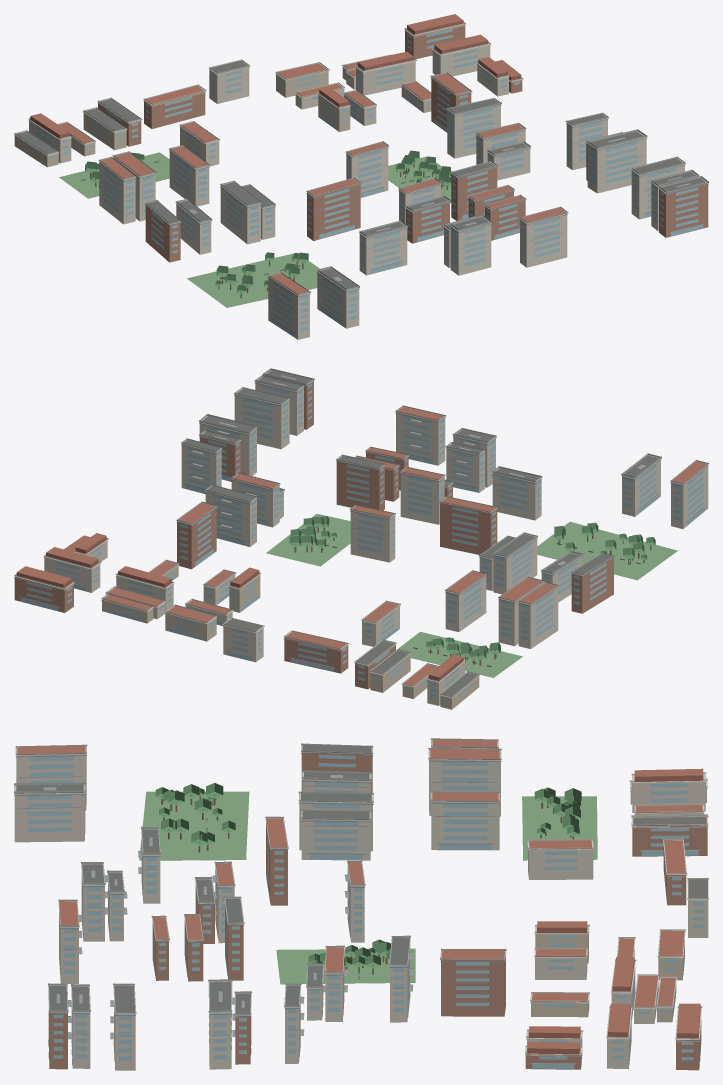
3 renders of one model, top to bottom at view 1: azimuth 30°, elevation 25°; view 2: azimuth 150°, elevation 25°; view 3: azimuth 270°, elevation 25°, orthographic. The views are drawn at different scales.
Parts seen in each view (by area): view 1: neighborhood-park-block-271-mesh-0, building-0677-mesh-94, building-0860-mesh-256, building-0856-mesh-231, building-0752-mesh-146, building-0706-mesh-109, building-0801-mesh-187, building-0623-mesh-15, building-0676-mesh-87, building-0679-mesh-104, building-0629-mesh-47, building-0627-mesh-37 (+44 smaller); view 2: neighborhood-park-block-271-mesh-0, building-0677-mesh-94, neighborhood-park-block-274-mesh-5, neighborhood-park-block-339-mesh-10, building-0753-mesh-152, building-0858-mesh-244, building-0710-mesh-135, building-0752-mesh-146, building-0676-mesh-87, building-0708-mesh-123, building-0804-mesh-206, building-0625-mesh-26 (+44 smaller); view 3: neighborhood-park-block-271-mesh-0, building-0804-mesh-206, building-0624-mesh-20, neighborhood-park-block-274-mesh-5, neighborhood-park-block-339-mesh-10, building-0631-mesh-57, neighborhood-park-block-271-mesh-3, building-0628-mesh-42, building-0678-mesh-99, building-0630-mesh-52, building-0636-mesh-82, building-0623-mesh-15 (+62 smaller).
Part boxes in pixels (left/top/right/bottom): neighborhood-park-block-271-mesh-0: left=187, top=252, right=319, bottom=307; building-0677-mesh-94: left=307, top=184, right=360, bottom=240; building-0860-mesh-256: left=587, top=131, right=646, bottom=193; building-0856-mesh-231: left=659, top=178, right=708, bottom=237; building-0752-mesh-146: left=520, top=213, right=567, bottom=267; building-0706-mesh-109: left=450, top=223, right=491, bottom=275; building-0801-mesh-187: left=447, top=104, right=500, bottom=158; building-0623-mesh-15: left=268, top=277, right=309, bottom=339; building-0676-mesh-87: left=359, top=225, right=407, bottom=275; building-0679-mesh-104: left=144, top=91, right=205, bottom=128; building-0629-mesh-47: left=99, top=161, right=135, bottom=224; building-0627-mesh-37: left=220, top=186, right=260, bottom=244; neighborhood-park-block-271-mesh-0: left=537, top=521, right=677, bottom=580; building-0677-mesh-94: left=440, top=502, right=497, bottom=554; neighborhood-park-block-274-mesh-5: left=398, top=631, right=522, bottom=677; neighborhood-park-block-339-mesh-10: left=266, top=514, right=350, bottom=566; building-0753-mesh-152: left=336, top=460, right=384, bottom=510; building-0858-mesh-244: left=234, top=389, right=289, bottom=449; building-0710-mesh-135: left=350, top=510, right=395, bottom=562; building-0752-mesh-146: left=396, top=412, right=445, bottom=465; building-0676-mesh-87: left=492, top=469, right=541, bottom=520; building-0708-mesh-123: left=400, top=473, right=444, bottom=524; building-0804-mesh-206: left=177, top=507, right=216, bottom=569; building-0625-mesh-26: left=571, top=557, right=613, bottom=613; neighborhood-park-block-271-mesh-0: left=139, top=791, right=249, bottom=860; building-0804-mesh-206: left=441, top=951, right=505, bottom=1016; building-0624-mesh-20: left=14, top=785, right=85, bottom=842; neighborhood-park-block-274-mesh-5: left=522, top=796, right=597, bottom=860; neighborhood-park-block-339-mesh-10: left=276, top=948, right=415, bottom=984; building-0631-mesh-57: left=431, top=793, right=499, bottom=850; neighborhood-park-block-271-mesh-3: left=155, top=783, right=235, bottom=845; building-0628-mesh-42: left=301, top=812, right=370, bottom=860; building-0678-mesh-99: left=528, top=841, right=593, bottom=879; building-0630-mesh-52: left=429, top=750, right=500, bottom=816; building-0636-mesh-82: left=632, top=818, right=707, bottom=856; building-0623-mesh-15: left=16, top=747, right=86, bottom=810.
Size of the model in its own units: 248 by 24.33 by 261.
